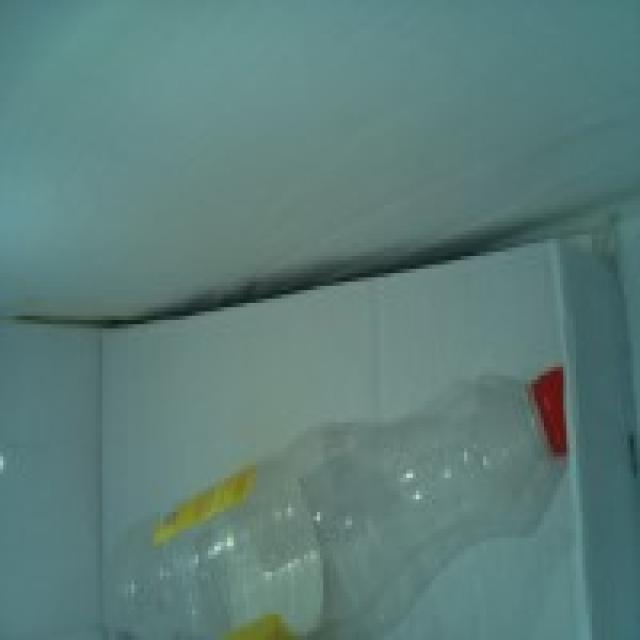Anorganik: (109, 358, 576, 640)
